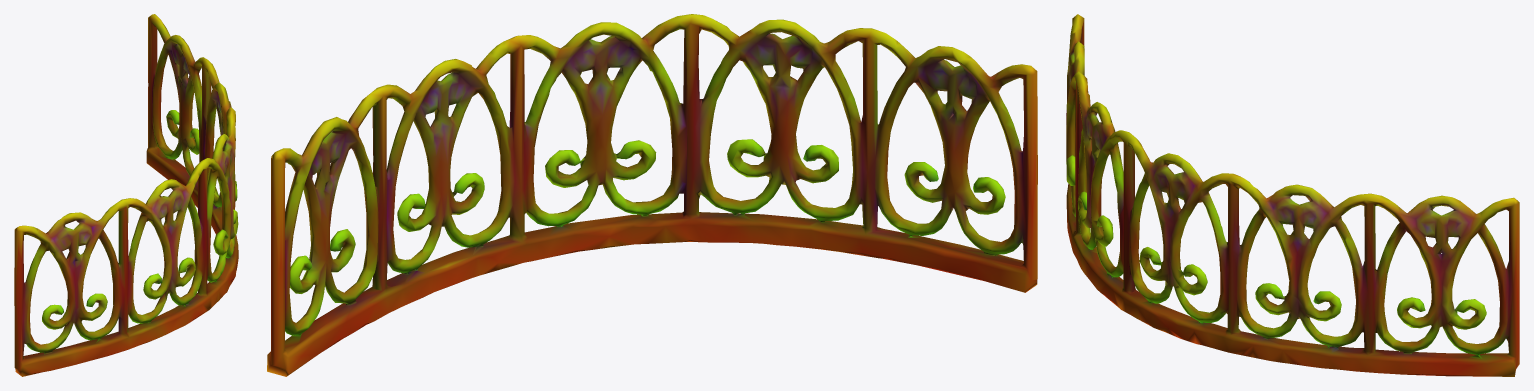
File: SM_Fence_Short_Corner.fbx
3 views of the same model, side by side, from view 1: azimuth 30°, elevation 25°; view 2: azimuth 150°, elevation 25°; view 3: azimuth 270°, elevation 25° (orthographic). The views are drawn at different scales.
Parts seen in each view (by area): view 1: transform1; view 2: transform1; view 3: transform1.
Boxes of the visible parts, left/top/right/bottom form: transform1: left=14, top=14, right=238, bottom=376; transform1: left=267, top=14, right=1037, bottom=376; transform1: left=1066, top=14, right=1519, bottom=376.
Size of the model in its own units: 156 by 157 by 67.21.
